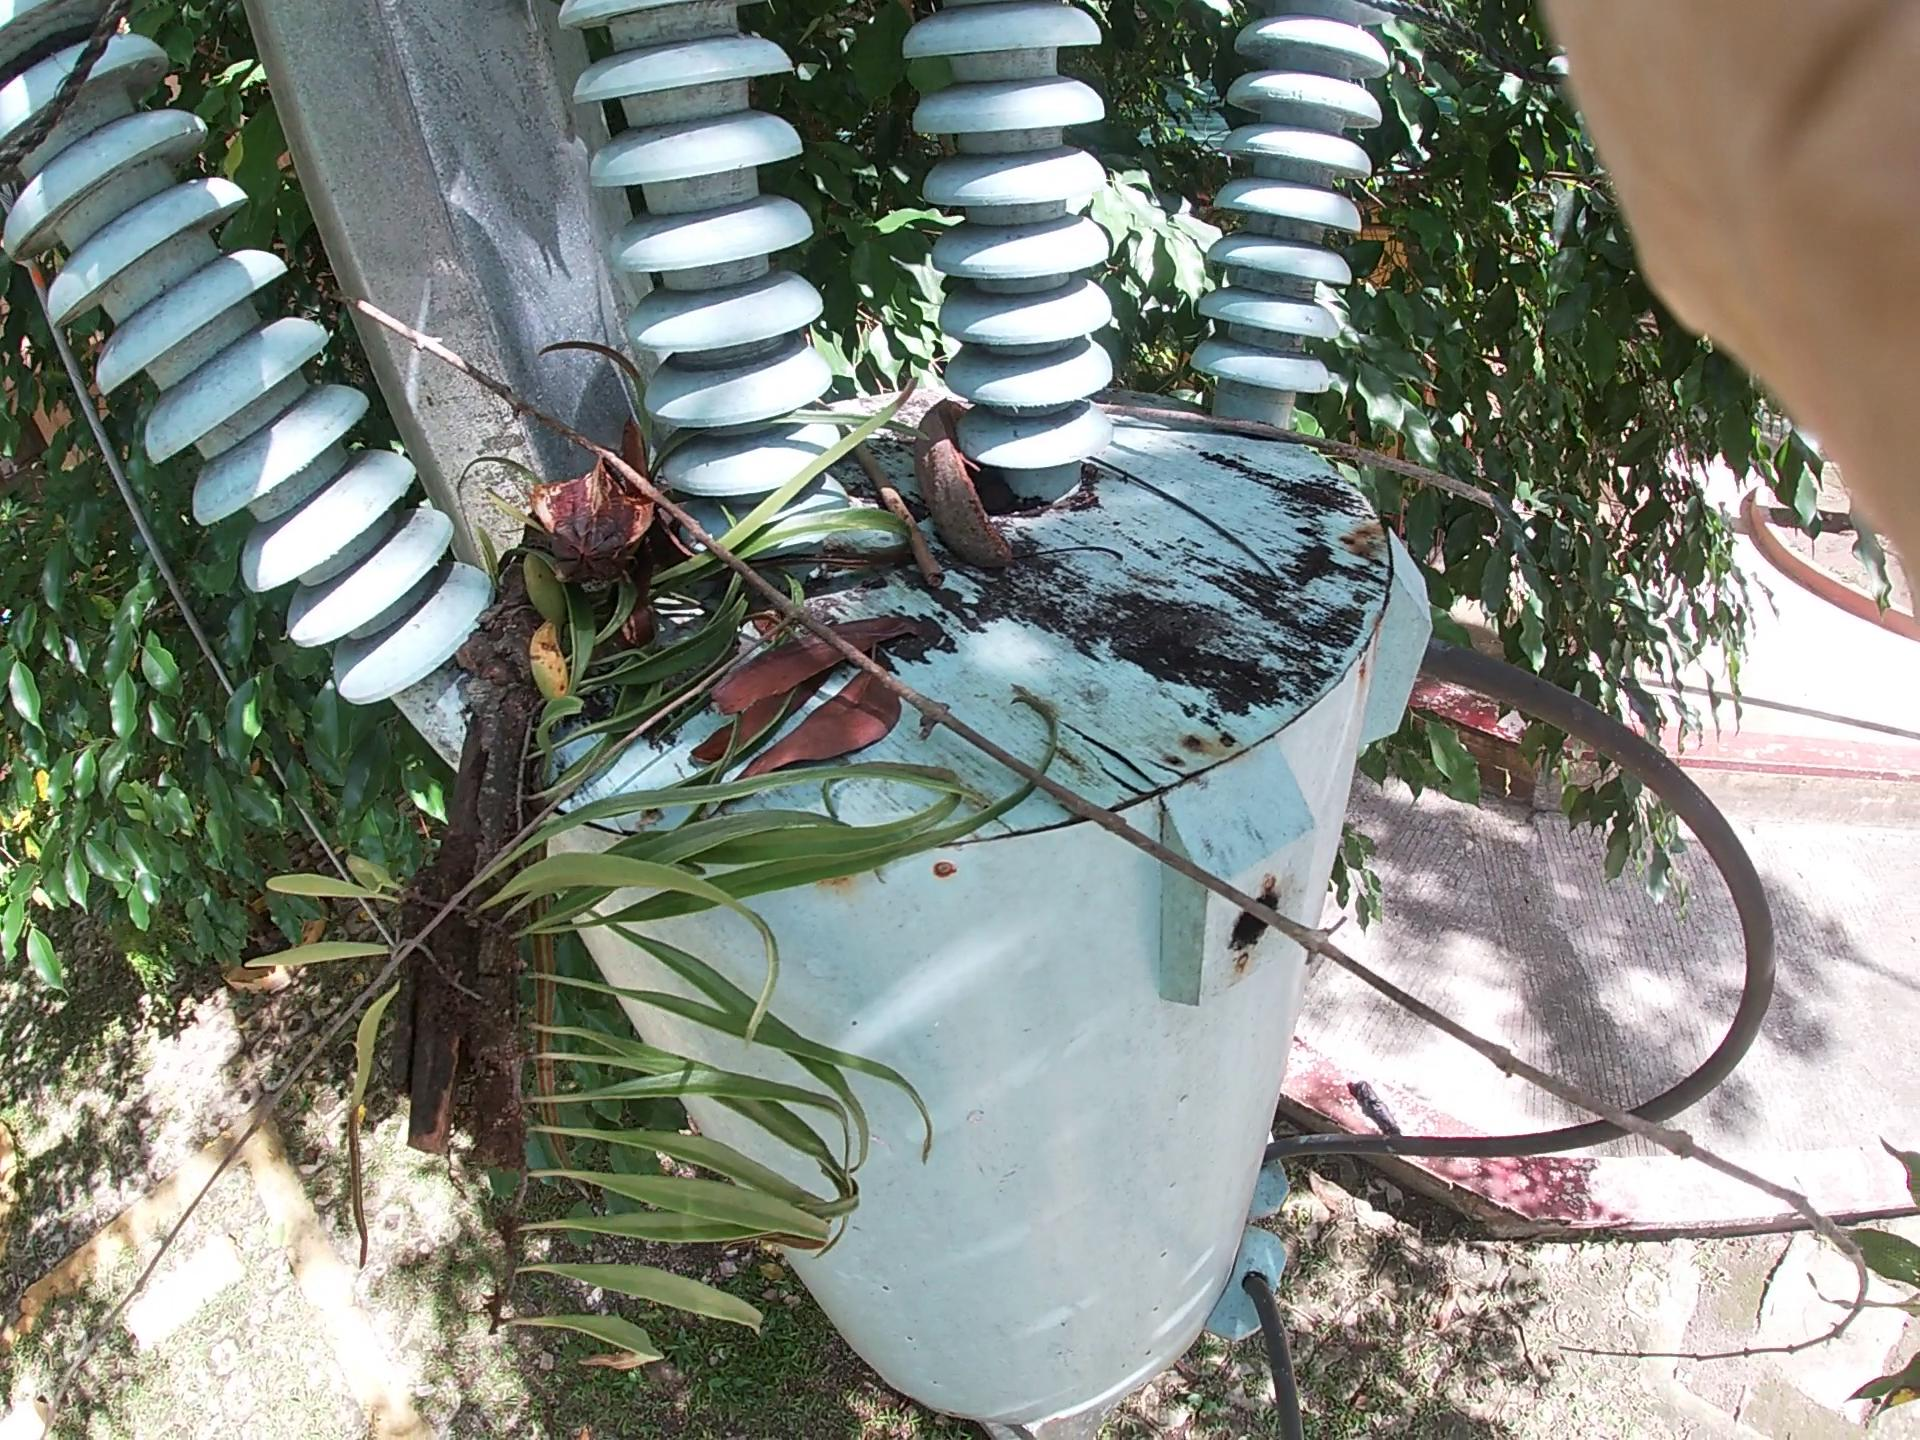branch with leaves: (345, 251, 712, 1249)
leaf: (668, 631, 1020, 764)
mahogany fruit: (881, 365, 1064, 626), (514, 427, 692, 602)
tree branch: (376, 315, 1643, 1106), (1033, 349, 1553, 555), (803, 313, 1011, 653)
